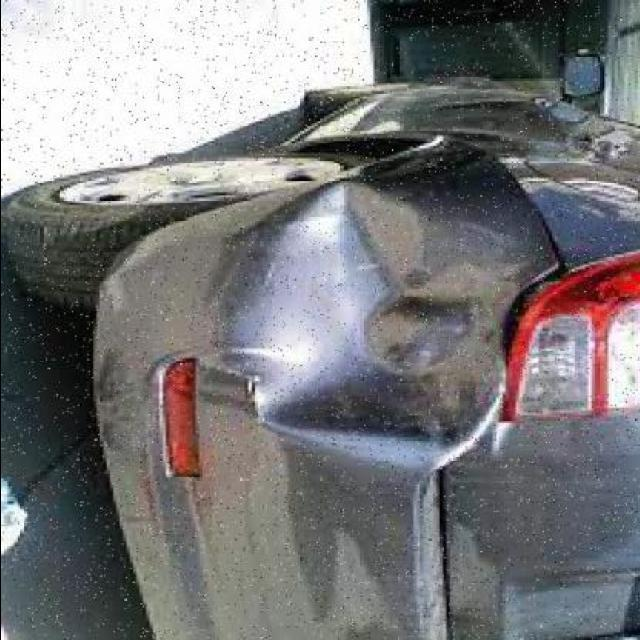rear-bumper-dent: (100, 134, 499, 633)
